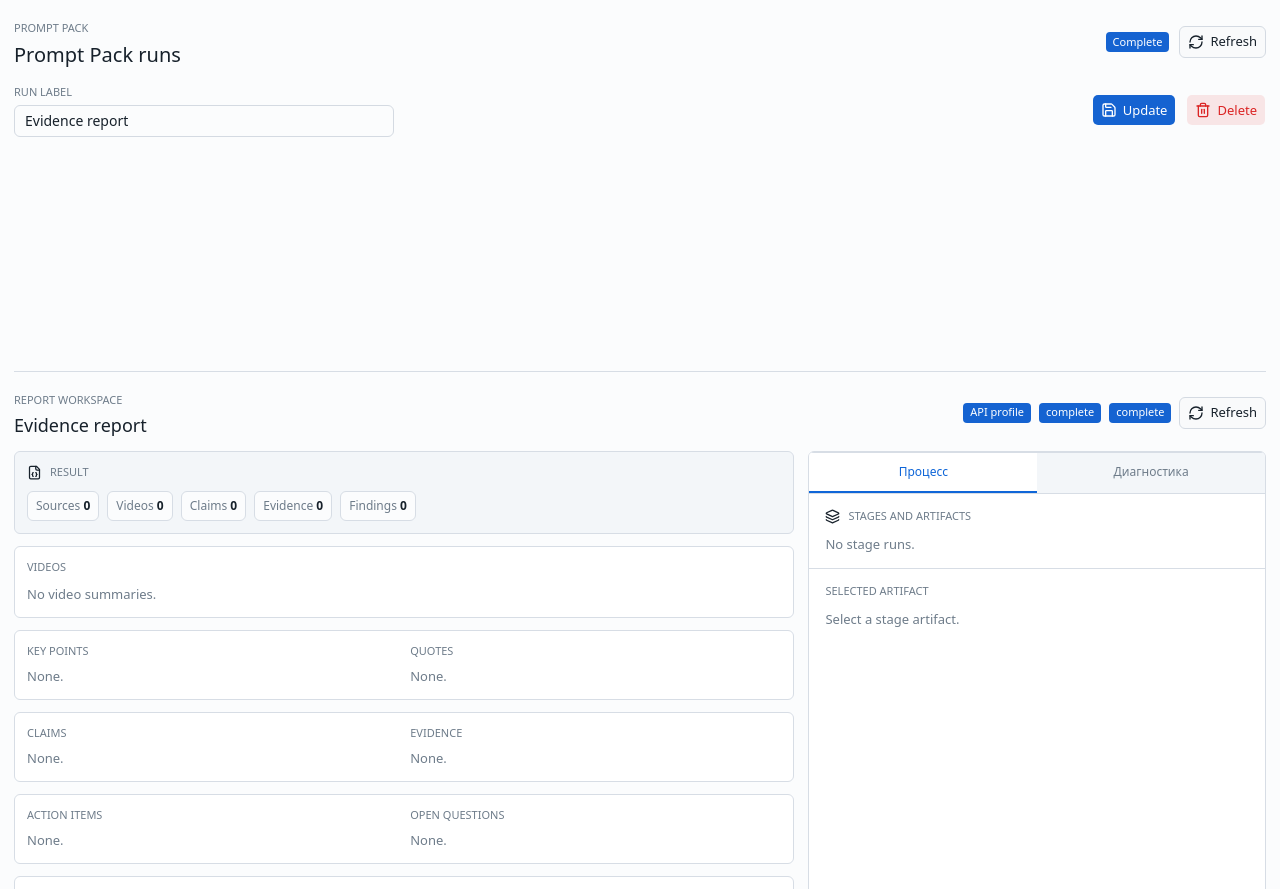
Test case: project runs screen › uses the Extractum SVAR grid for prompt-pack project runs with update and delete actions
The image size is (1280, 889).
Expected: the heading "Evidence report" is shown, [14,412,147,439]
Replace the text in the field labelled "Run label" with "Updated" at (204, 120), box [14,104,394,136]
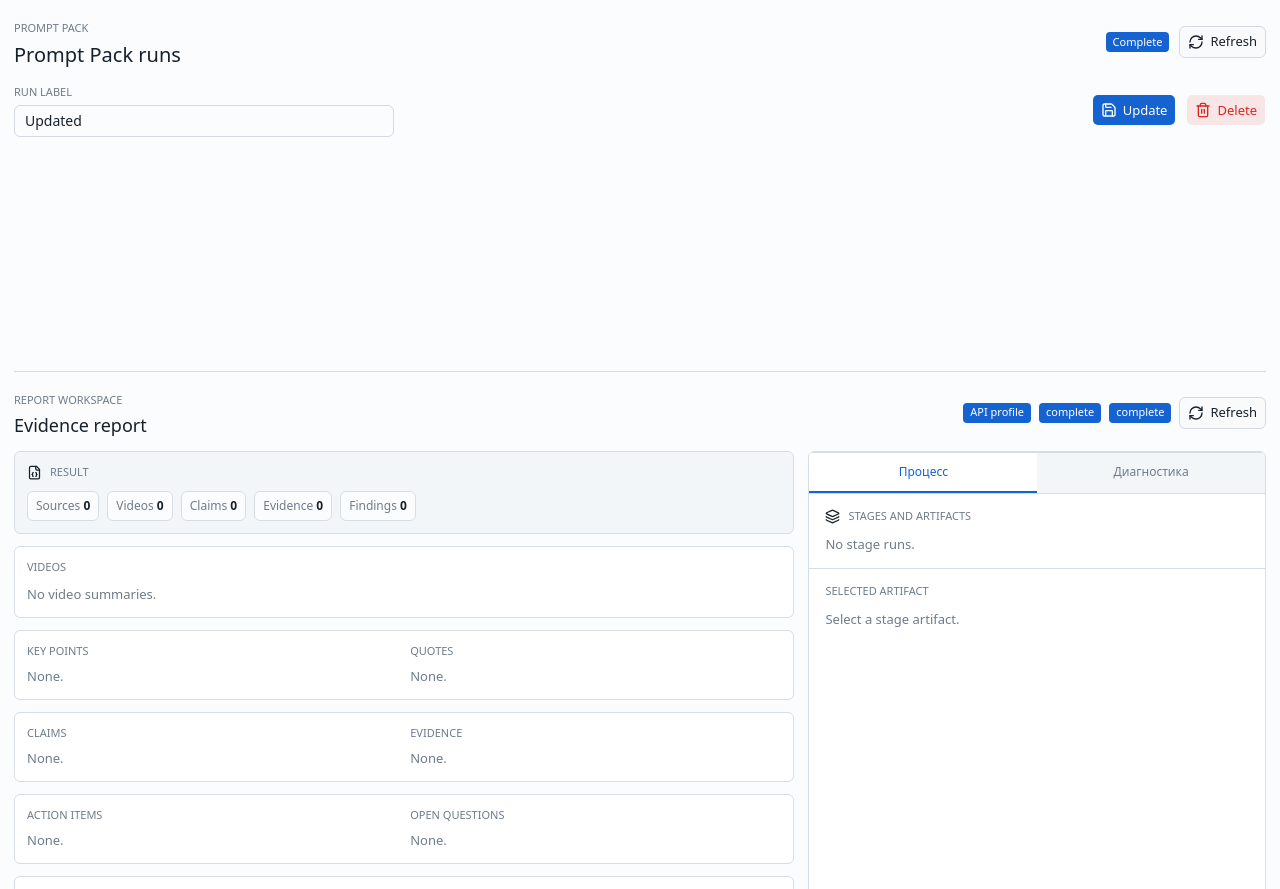
Click the button with aria-label "Update selected prompt pack run label" at (1134, 110), box [1092,94,1176,126]
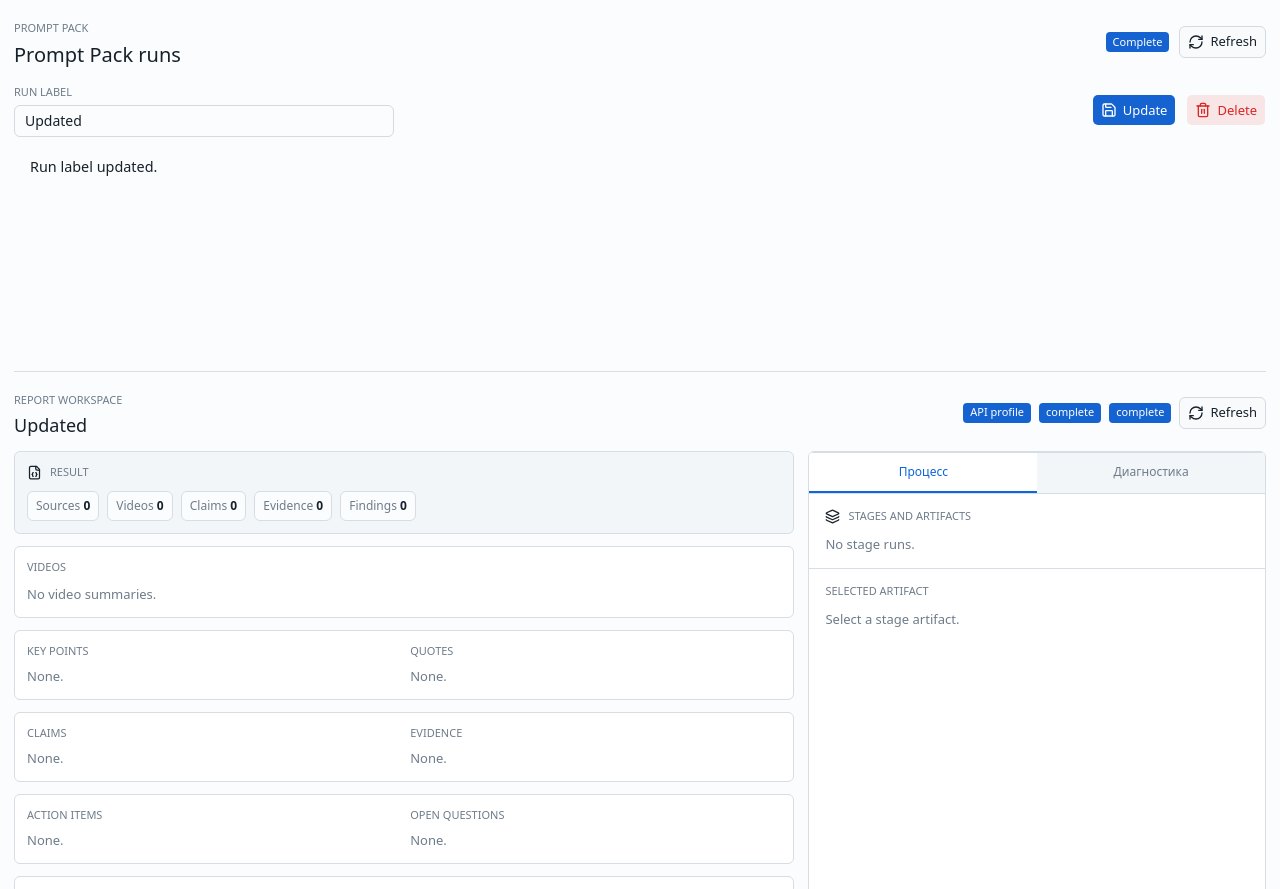
Expected: the button with aria-label "Delete selected prompt pack run 91" is enabled, [1186,94,1266,126]
Expected: the text "Run label updated." is shown, [30,157,157,176]
